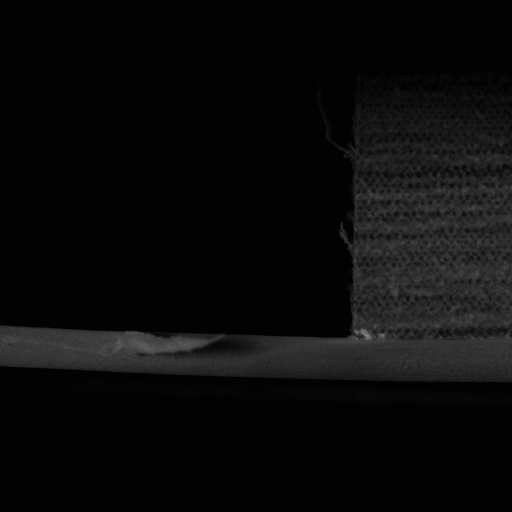changdai: (0, 324, 351, 384)
